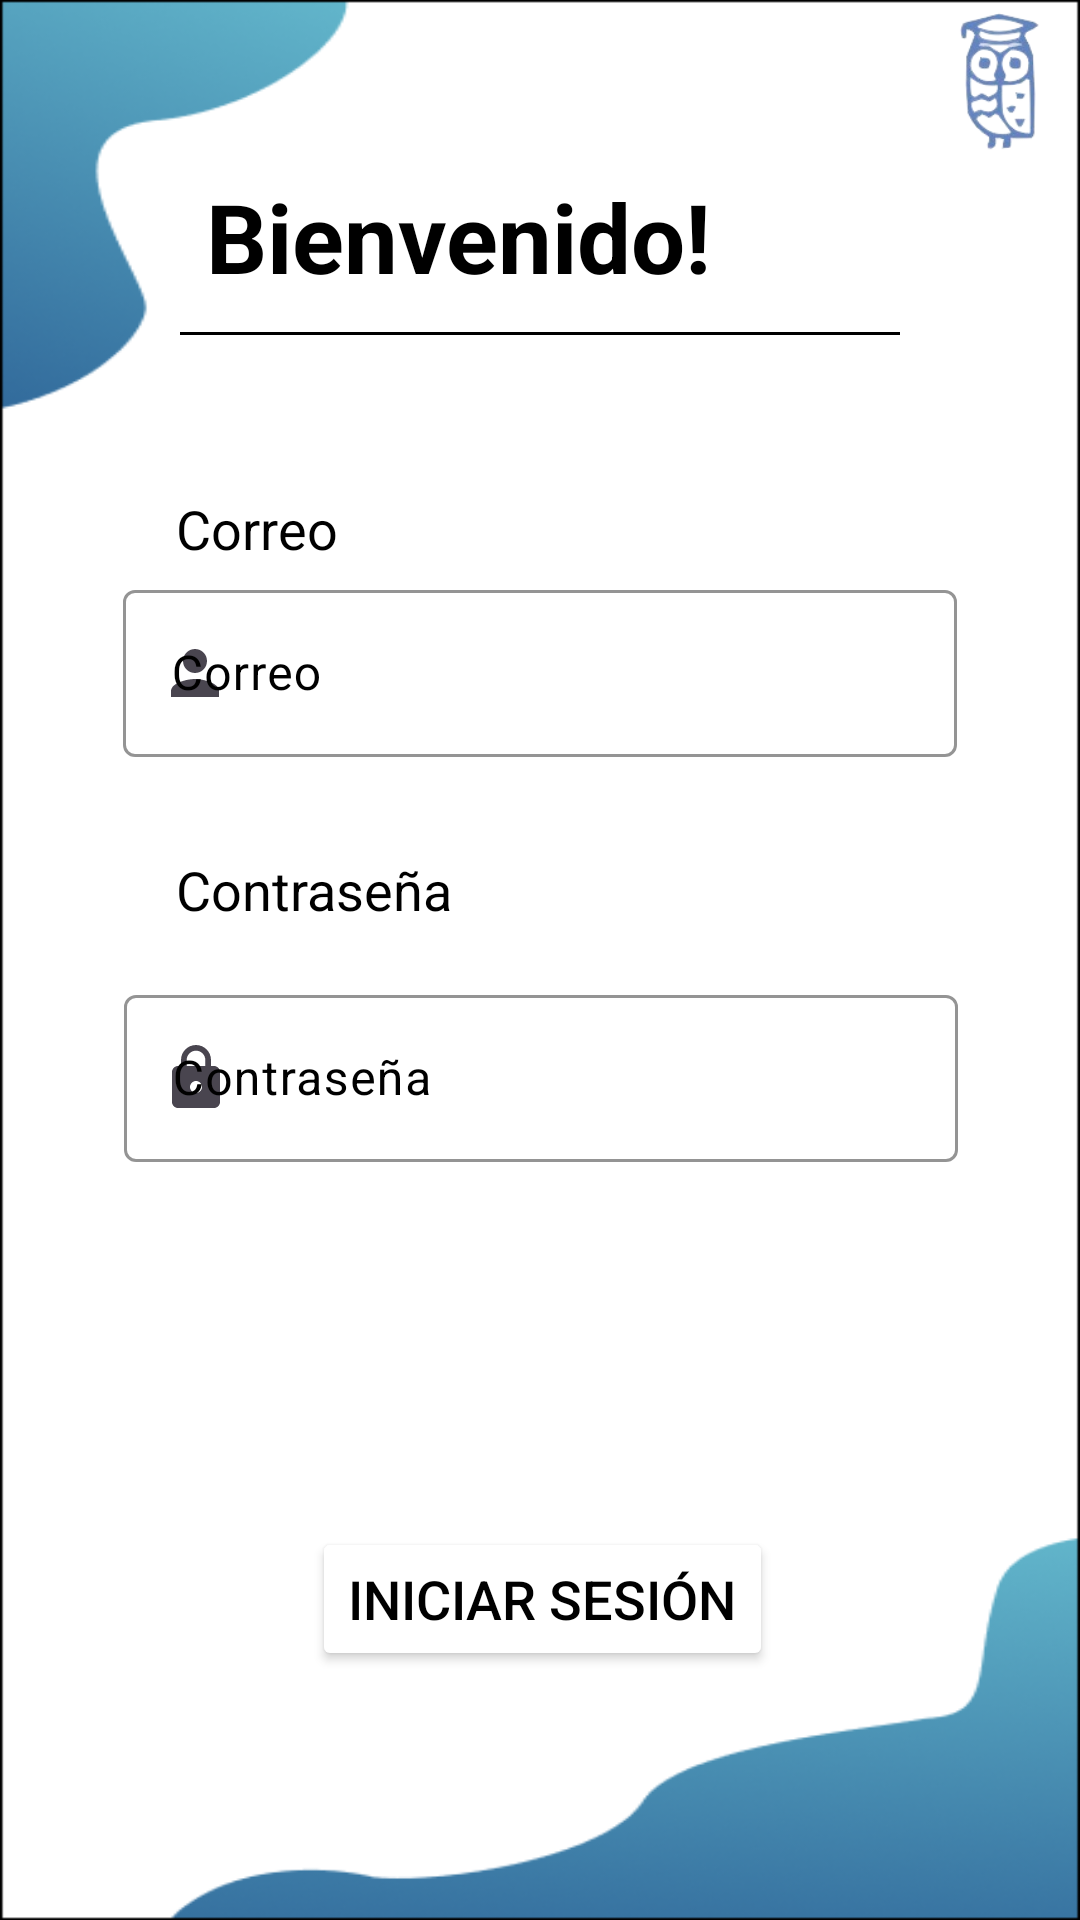

Point at icon controls on the screen. Image size 1080w x 1920h, points as (x,y).
buho: (999,81)
